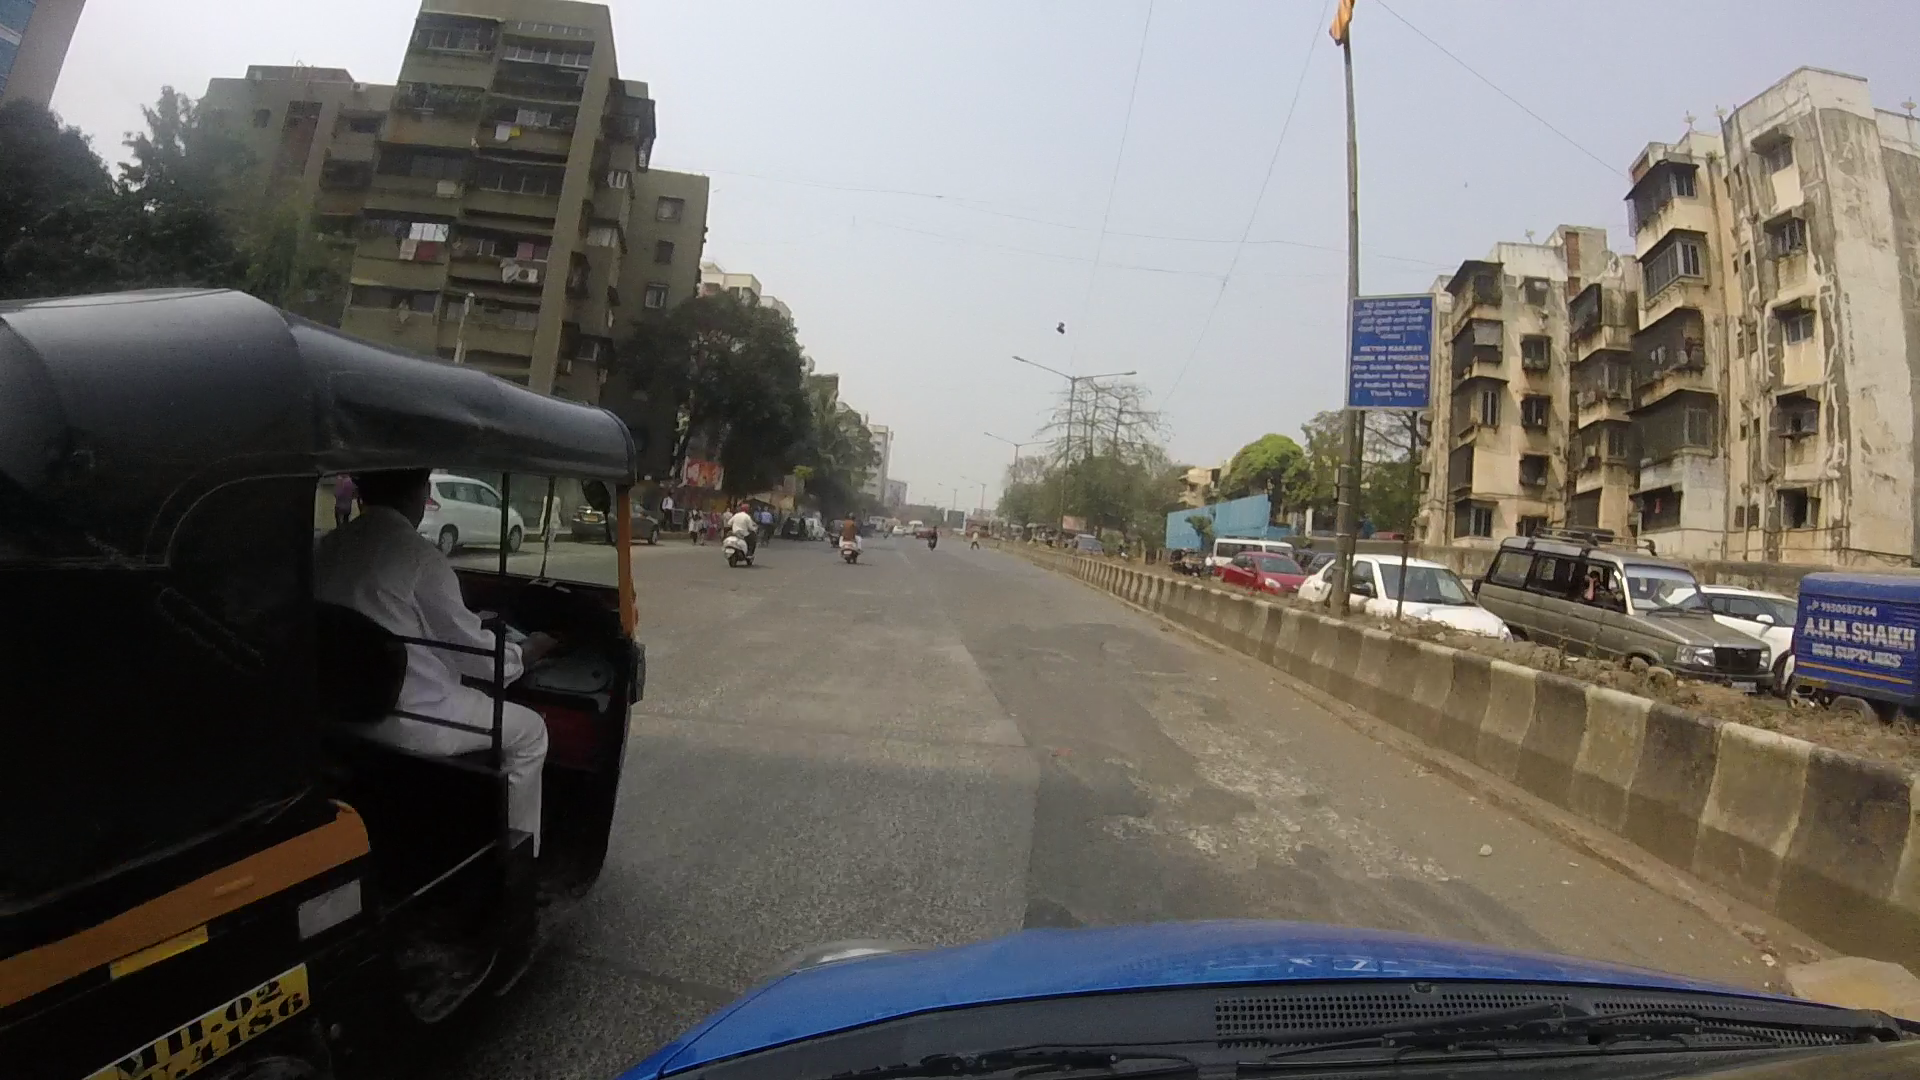bike/scooter: (709, 496, 764, 567)
car: (1469, 516, 1764, 703), (1298, 541, 1522, 658), (1211, 545, 1305, 595)
rickshaw: (1, 284, 662, 1080)
truck: (1788, 556, 1920, 724)
